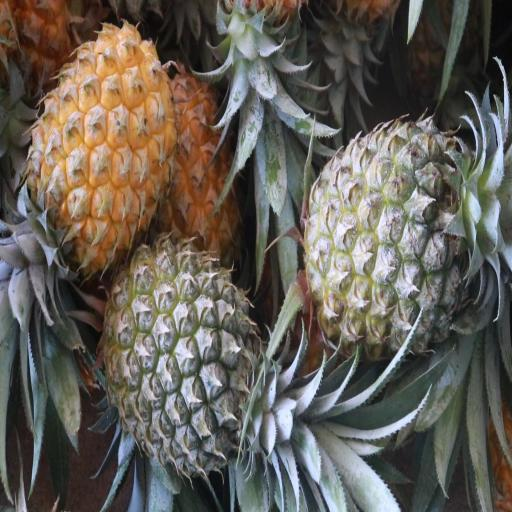Pineapple - v8 v1: (30, 24, 176, 268), (164, 76, 244, 266)
